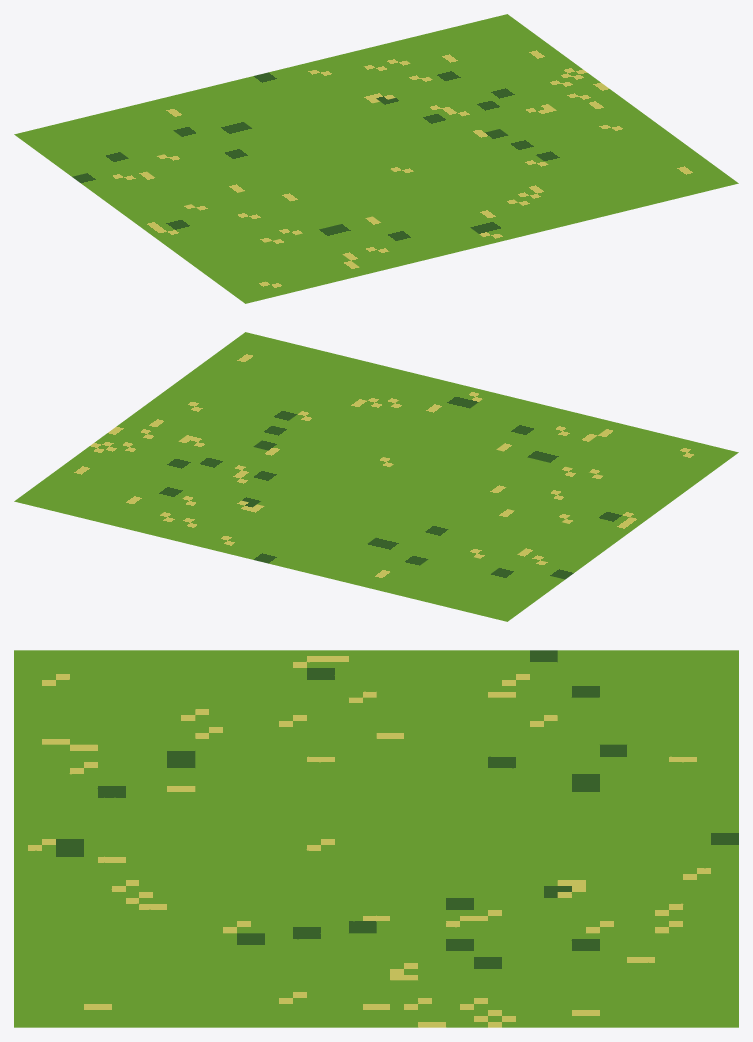
The model's file is ground.glb.
3 renders of one model, top to bottom at view 1: azimuth 30°, elevation 25°; view 2: azimuth 150°, elevation 25°; view 3: azimuth 270°, elevation 25°, orthographic. The views are drawn at different scales.
Parts seen in each view (by area): view 1: Ground; view 2: Ground; view 3: Ground.
Boxes of the visible parts, x1,y1,x2,y2 form: Ground: [14, 14, 738, 303]; Ground: [14, 332, 738, 621]; Ground: [14, 650, 738, 1027].
Bounding box in the file's own units: 16 × 0 × 13.
1 material, 1 textured.
